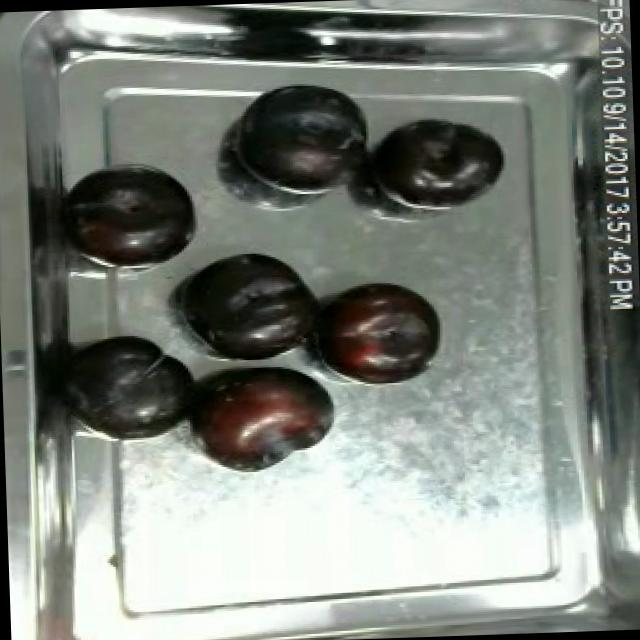Fruit: (180, 359, 345, 483), (170, 240, 334, 357), (57, 324, 205, 451), (228, 74, 378, 199), (61, 158, 207, 275), (304, 272, 449, 388), (358, 110, 512, 212)
